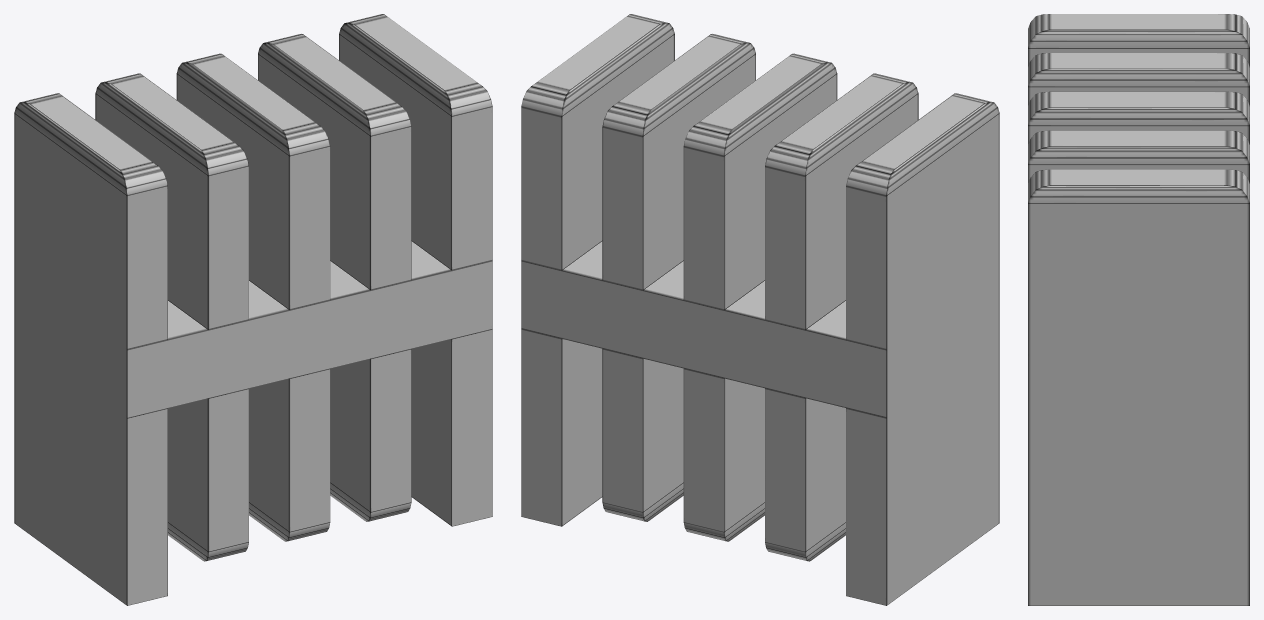
File: Radiator Model.fbx
The picture shows the model from 3 angles, left to right: view 1: azimuth 30°, elevation 25°; view 2: azimuth 150°, elevation 25°; view 3: azimuth 270°, elevation 25°; orthographic projection.
Visible parts, largest first — view 1: Radiator; view 2: Radiator; view 3: Radiator.
Boxes of the visible parts, x1=… form: Radiator: x1=14, y1=14, x2=492, y2=605; Radiator: x1=521, y1=14, x2=999, y2=605; Radiator: x1=1028, y1=14, x2=1249, y2=605.
Bounding box in the file's own units: 102 × 113 × 54.45.
1 material, 1 textured.
